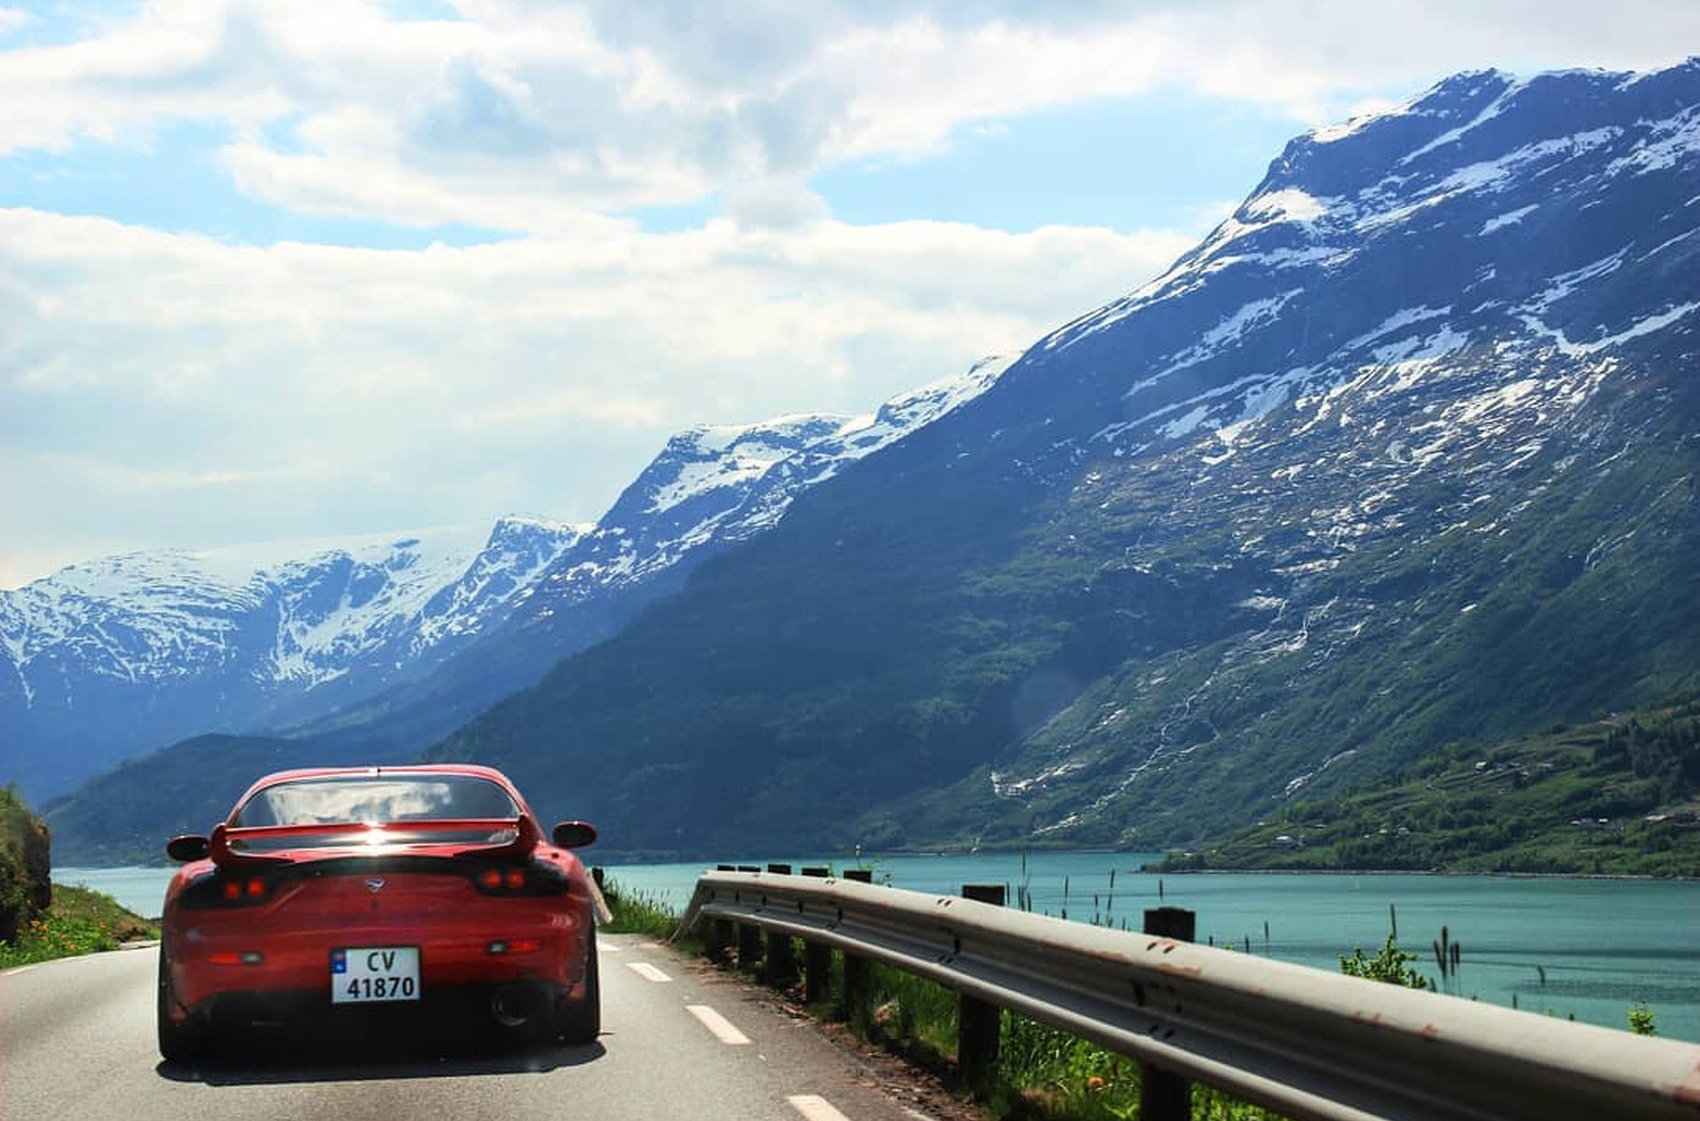plate: (328, 944, 423, 1010)
